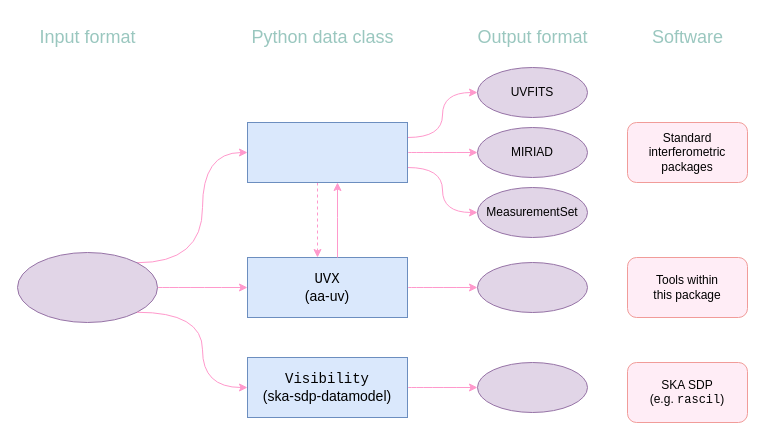
The diagram is 765 pixels wide and 440 high, and some of its shapes have lost their labels. The shapes that lost their labels are listed below. From the top down, each one's box as (x1, y1, x2, y2) in pixels, then its label:
(246, 122, 408, 182): UVData (pyuvdata)
(16, 252, 158, 322): AAVS Raw HDF5
(476, 262, 588, 312): AA-UVX HDF5
(476, 362, 588, 412): SDP Visibility HDF5
